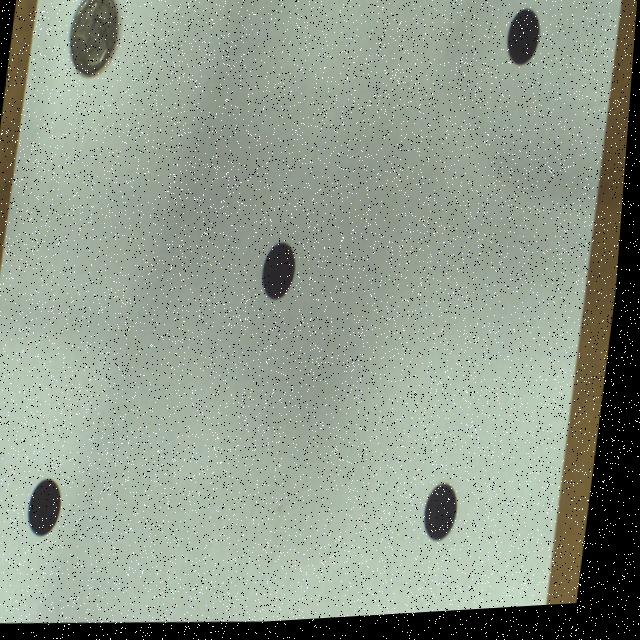head5bath: (71, 0, 119, 77)
space: (508, 16, 541, 73), (267, 247, 300, 304), (432, 490, 465, 546), (36, 481, 69, 537)
